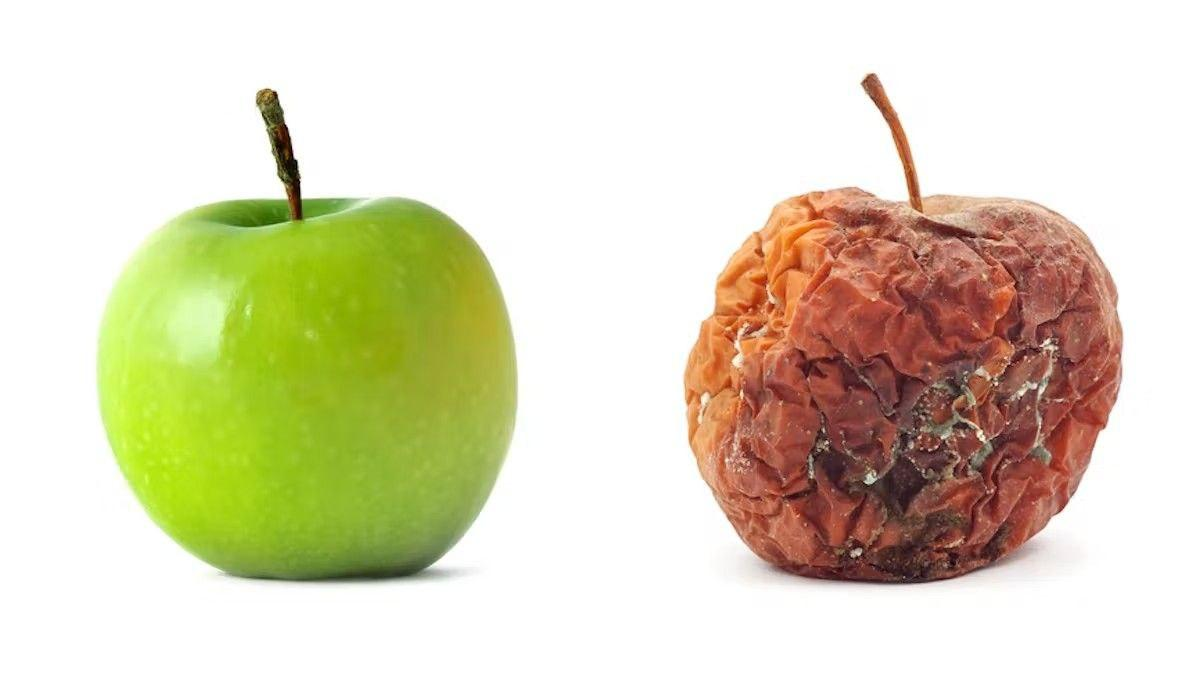Apple: (682, 190, 1117, 572), (99, 197, 510, 570)
